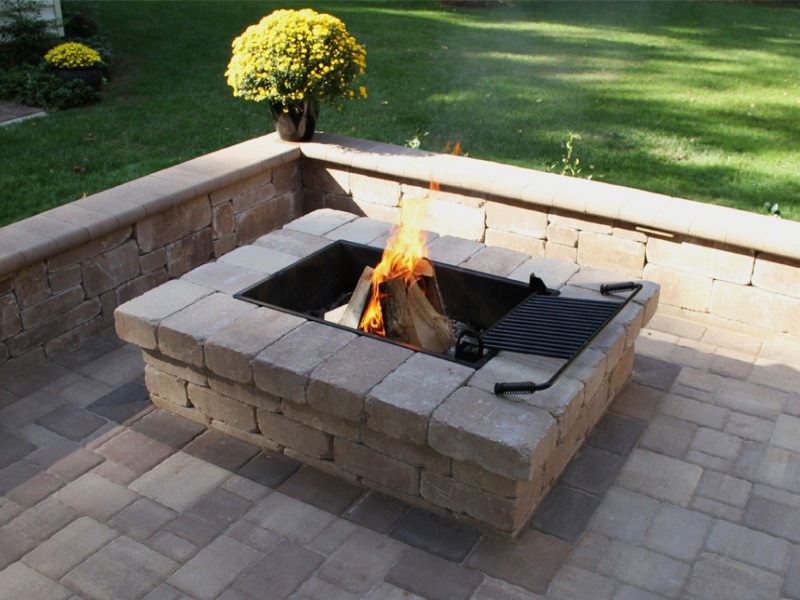fire: (373, 222, 430, 278), (367, 280, 380, 331)
